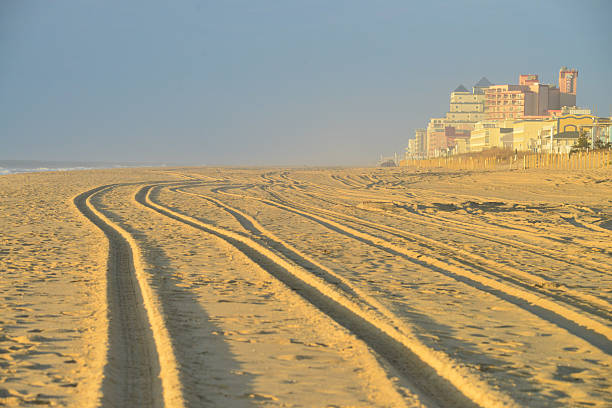vehicle_track: (137, 185, 515, 406), (213, 188, 611, 353), (276, 196, 611, 319), (73, 184, 183, 407), (381, 210, 607, 269)
